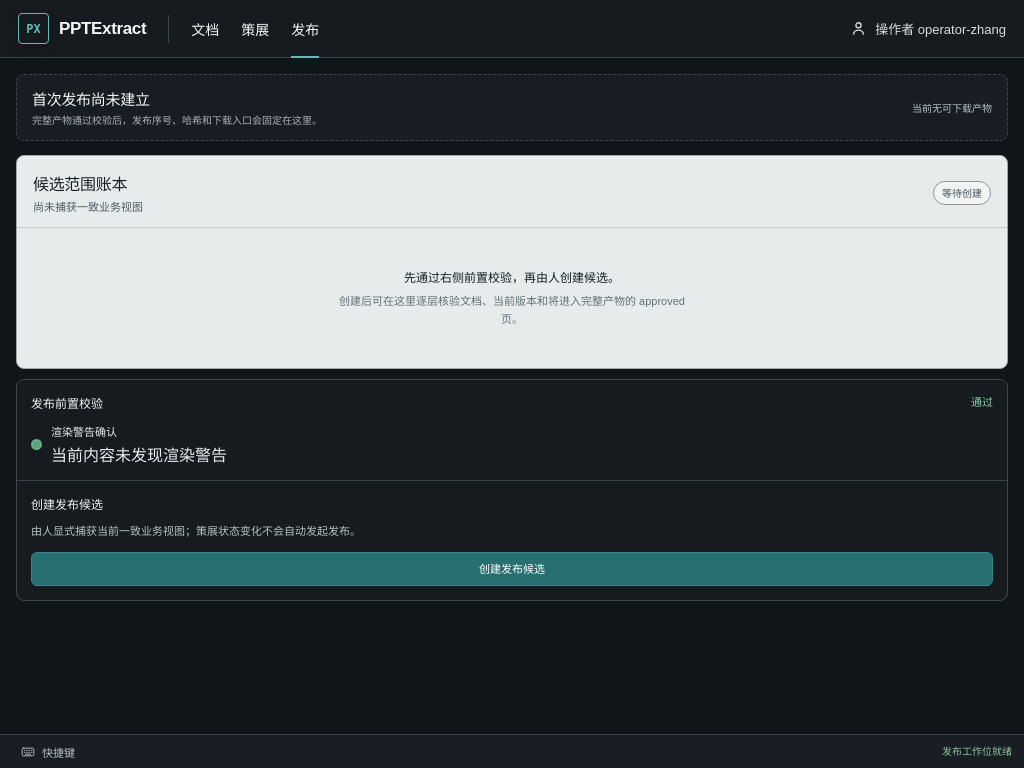
Test: 渲染警告工作流 › 发布确认遇到并发状态变化后重新加载并恢复硬阻塞
This screenshot has width=1024, height=768.
Click the button "创建发布候选".
click(512, 569)  # box [31,552,993,586]
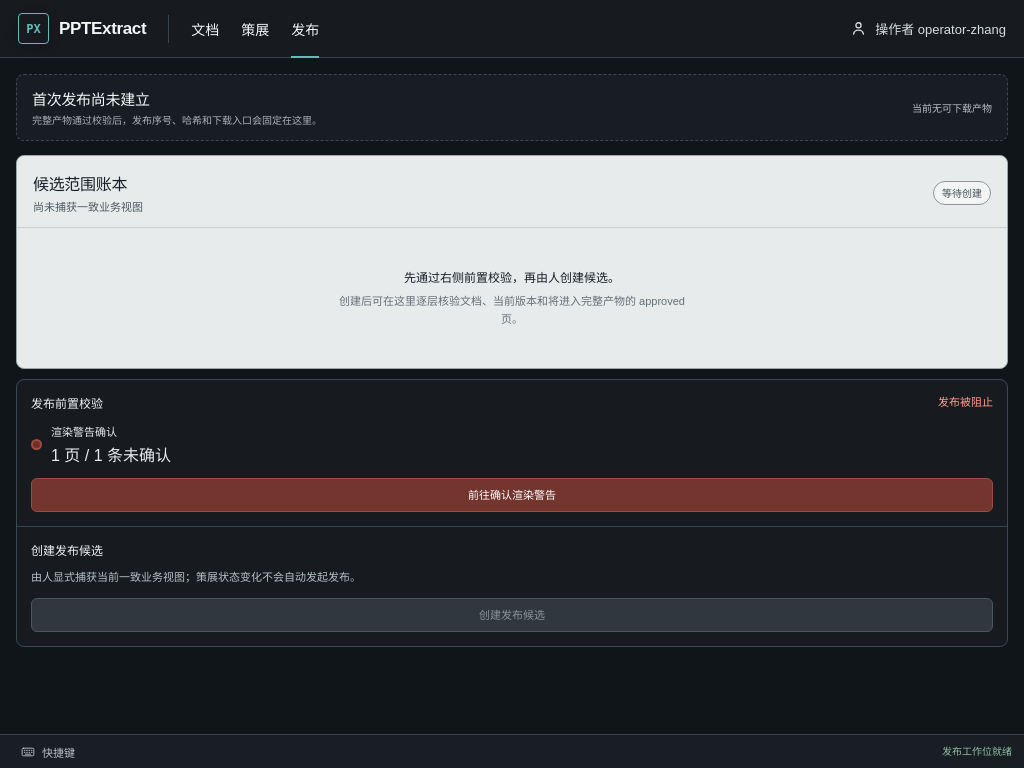
Check: the text "发布被阻止" is shown, box [938,395,993,410]
Check: the text "1 页 / 1 条未确认" is shown, box [51,442,171,466]
Check: the button "创建发布候选" is disabled, box [31,598,993,632]
